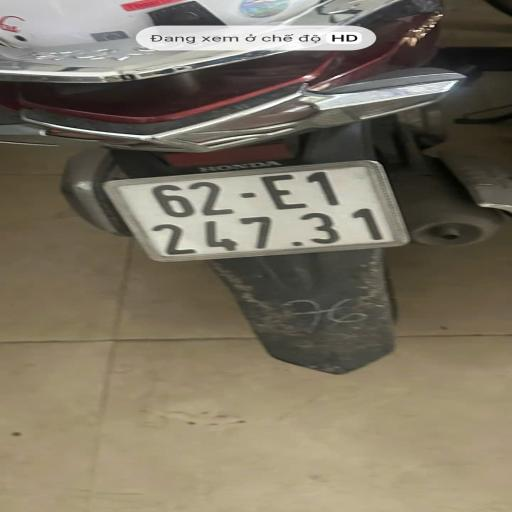1: (336, 204, 464, 264), (303, 165, 368, 216)
2: (142, 225, 224, 270), (185, 174, 252, 224)
3: (296, 211, 355, 255)
4: (202, 213, 252, 265)
6: (142, 179, 207, 223)
7: (237, 208, 277, 256)
E: (237, 170, 317, 216)
